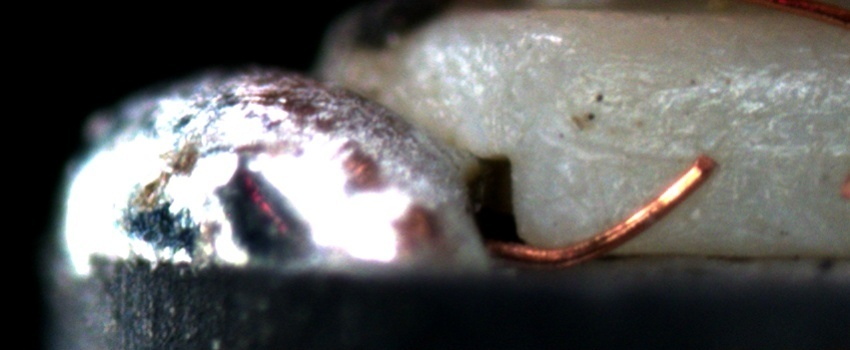DL: (569, 124, 849, 188), (653, 59, 849, 114)
